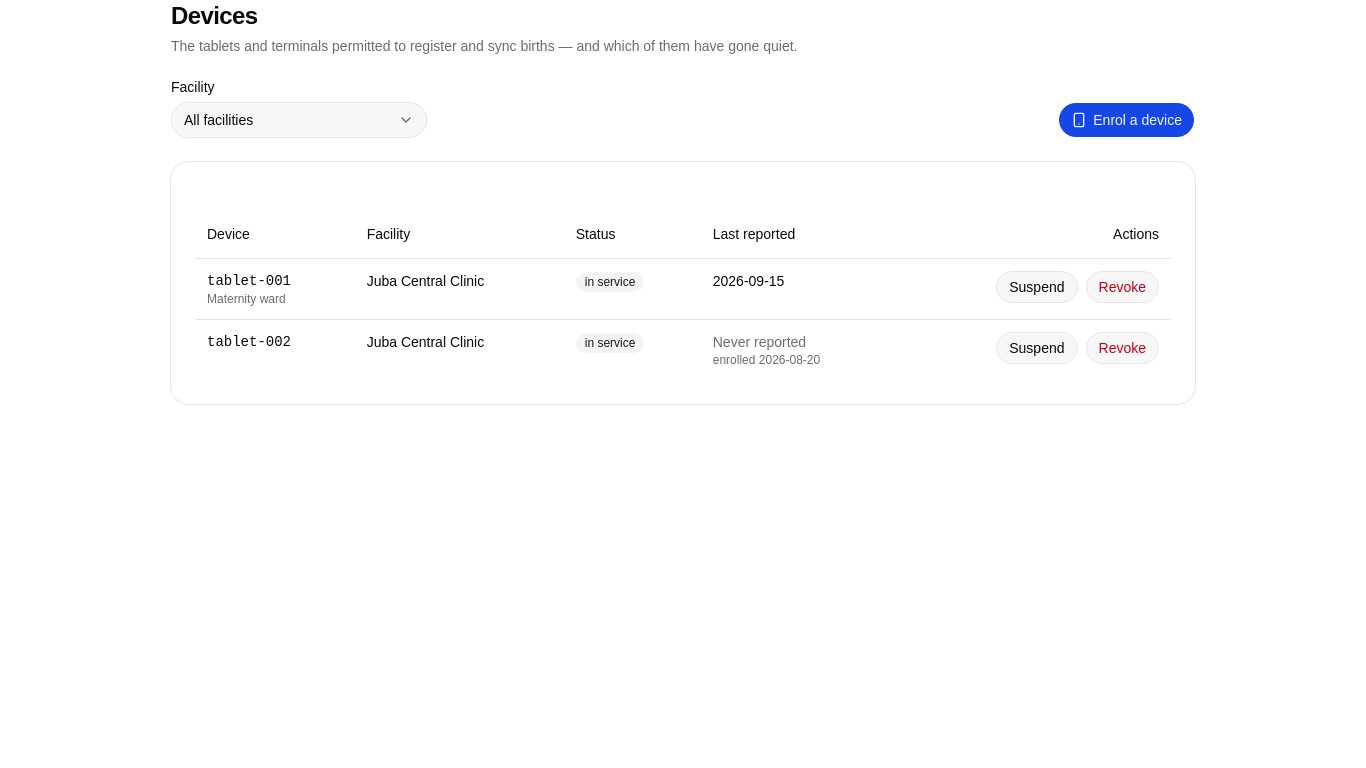
Test: DeviceList › will not submit a status change without a reason
The width and height of the screenshot is (1366, 768).
Expected: the text "tablet-001" is shown, [207, 272, 291, 288]
Click the button "Revoke" in the row of "tablet-001". click: (1122, 286)
box: [1086, 270, 1159, 302]
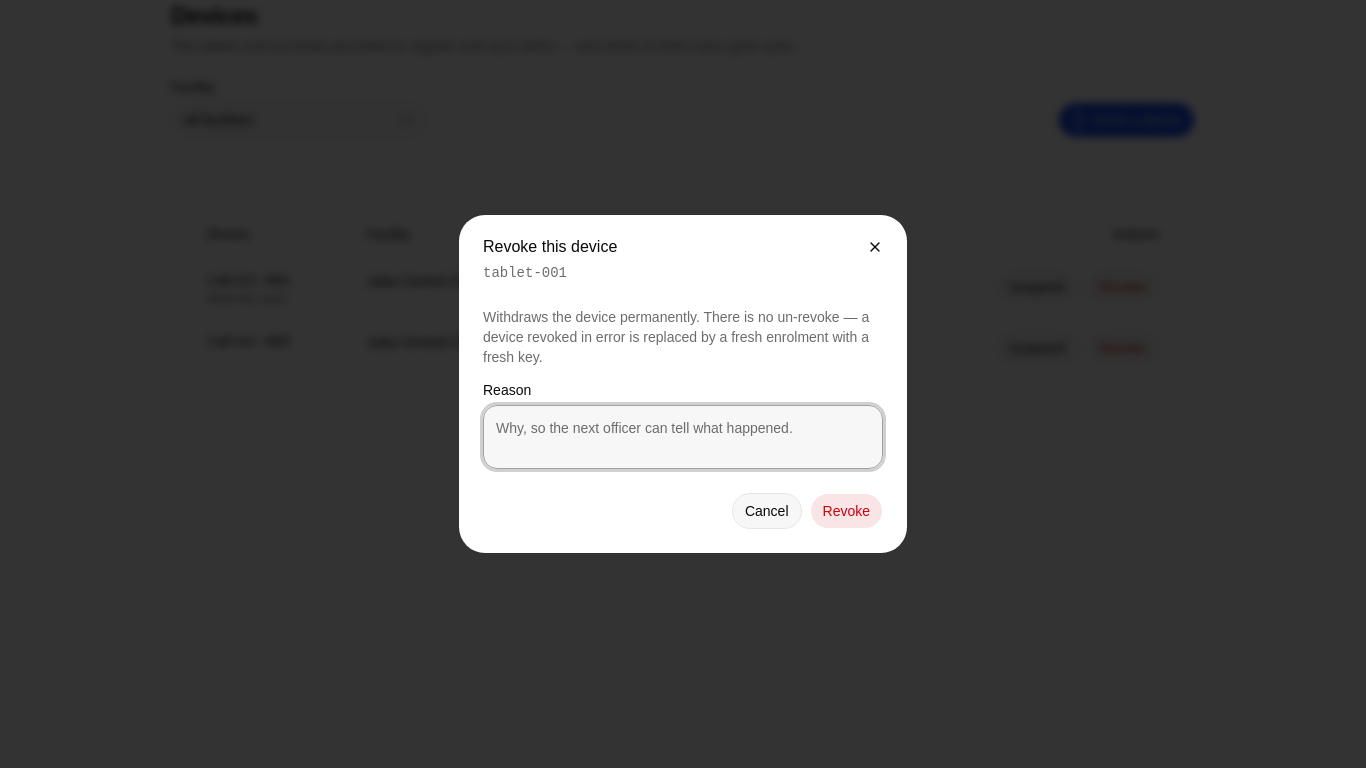
Click the button "Revoke". click: (846, 511)
box: [810, 493, 883, 529]
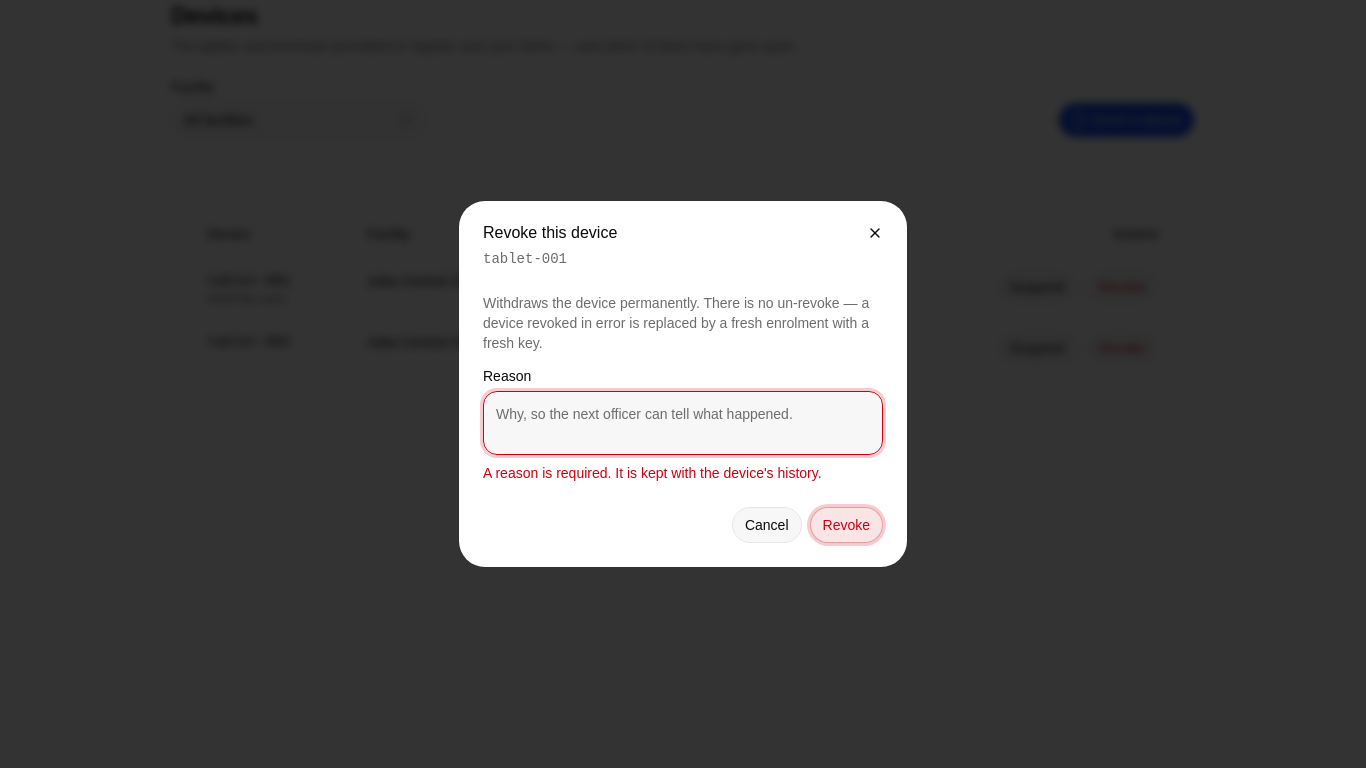
Now the text "A reason is required. It is kept with the device's history." is shown, box [483, 465, 822, 481]
